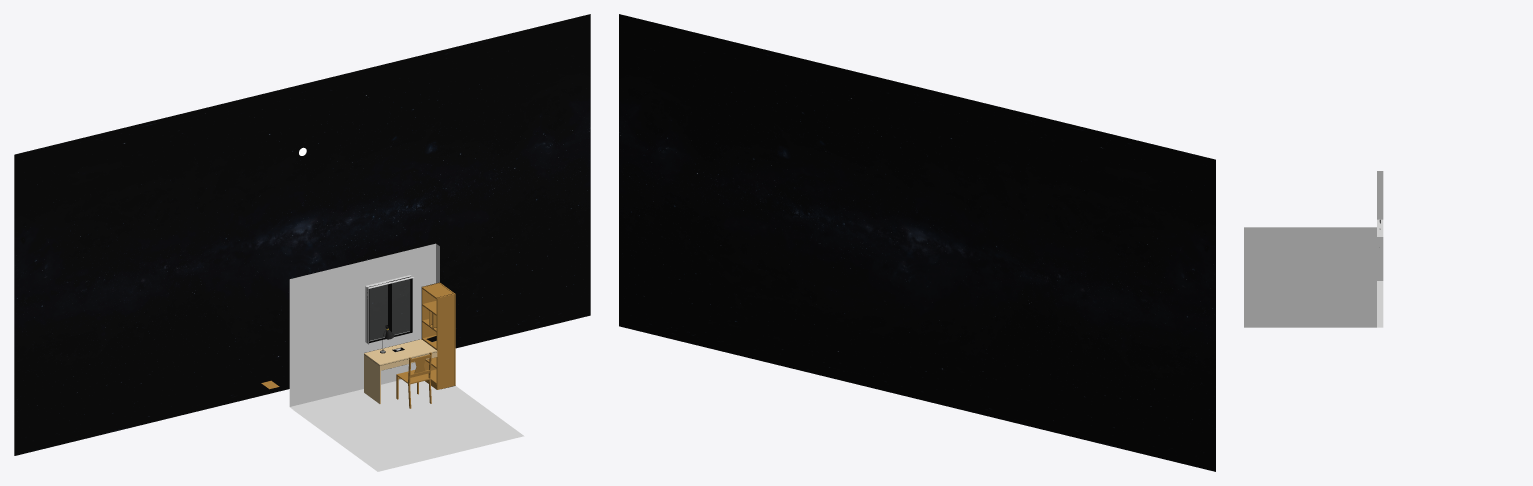
Rendered from EscenaMainCamera.glb.
The picture shows the model from 3 angles, left to right: view 1: azimuth 30°, elevation 25°; view 2: azimuth 150°, elevation 25°; view 3: azimuth 270°, elevation 25°; orthographic projection. The views are drawn at different scales.
Parts seen in each view (by area): view 1: FondoUniverso, ParedFront, Piso, Plane.003, Plane, Cristal1, Cristal2, CubeSilla, Plane.002; view 2: FondoUniverso; view 3: ParedLat.001, ParedFront.
Boxes of the visible parts, left/top/right/bottom form: FondoUniverso: left=14, top=14, right=590, bottom=455; ParedFront: left=289, top=243, right=439, bottom=409; Piso: left=293, top=381, right=524, bottom=471; Plane.003: left=436, top=293, right=454, bottom=389; Plane: left=364, top=339, right=437, bottom=365; Cristal1: left=369, top=284, right=387, bottom=340; Cristal2: left=392, top=279, right=409, bottom=334; CubeSilla: left=396, top=352, right=431, bottom=408; Plane.002: left=364, top=355, right=380, bottom=403; FondoUniverso: left=619, top=14, right=1215, bottom=471; ParedLat.001: left=1244, top=227, right=1376, bottom=327; ParedFront: left=1377, top=171, right=1383, bottom=327.
Size of the model in its own units: 11.8 by 5.9 by 6.2.
Materials: 10 (2 with a texture image).
